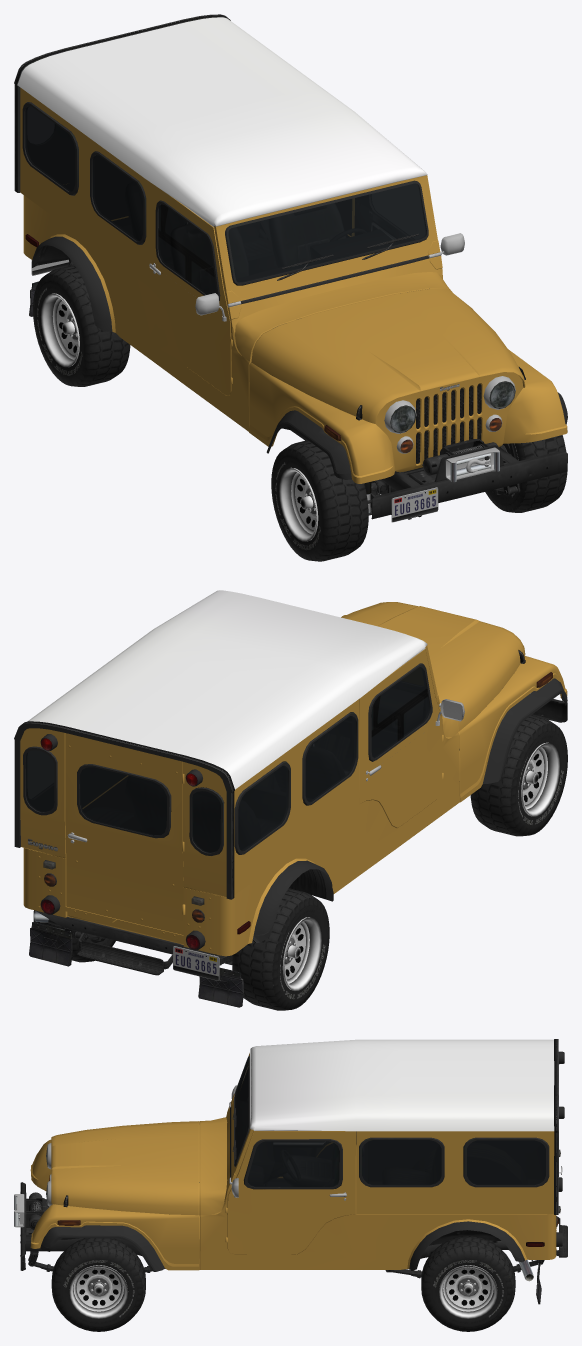
The model's file is eugene-mk6-65-low-poly-model-227325.glb.
3 renders of one model, top to bottom at view 1: azimuth 30°, elevation 25°; view 2: azimuth 150°, elevation 25°; view 3: azimuth 270°, elevation 25°, orthographic. The views are drawn at different scales.
Visible parts, largest first — view 1: body, wheel-front-right, wheel-back-right, wheel-front-left; view 2: body, wheel-back-right, wheel-front-right, wheel-back-left; view 3: body, wheel-back-left, wheel-front-left.
Boxes of the visible parts, box(x1,y1,x2,y2) form: body: box(14, 14, 567, 522); wheel-front-right: box(271, 440, 368, 561); wheel-back-right: box(33, 264, 130, 386); wheel-front-left: box(485, 435, 567, 512); body: box(14, 590, 567, 1007); wheel-back-right: box(186, 888, 329, 1010); wheel-front-right: box(470, 715, 567, 836); wheel-back-left: box(33, 899, 115, 962); body: box(14, 1039, 567, 1304); wheel-back-left: box(421, 1236, 515, 1331); wheel-front-left: box(51, 1238, 145, 1331).
Bounding box in the file's own units: 1.73 × 1.72 × 3.98.
Materials: 8 (7 with a texture image).
